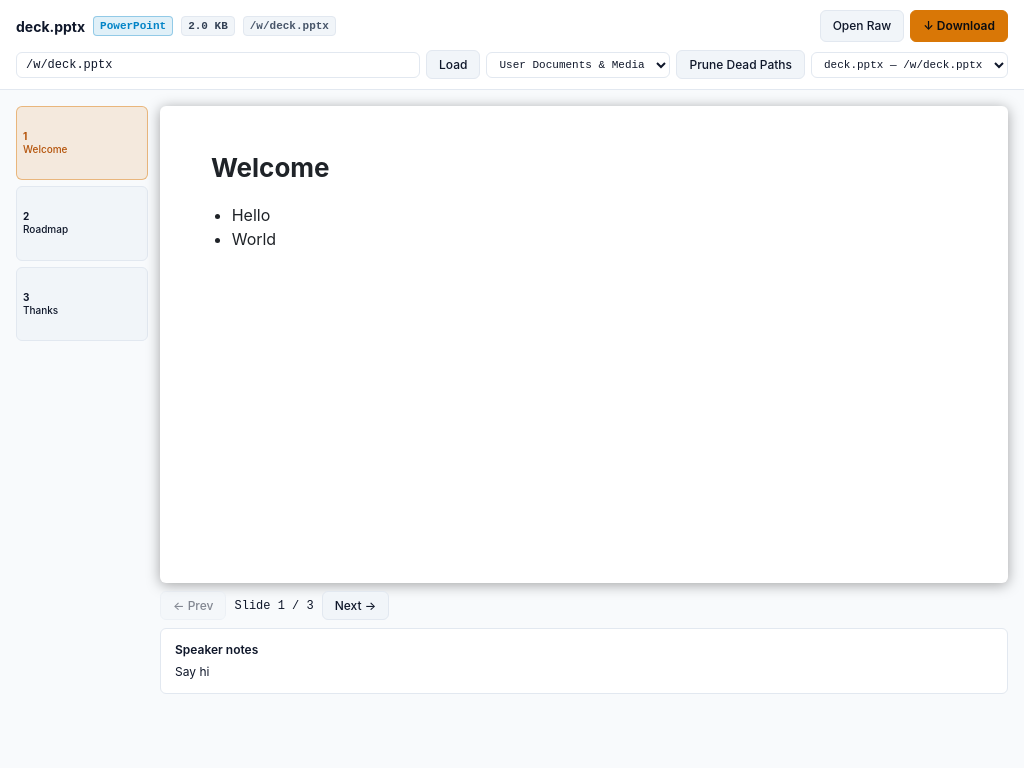
Test: Office document renderer › renders a .pptx as a slide deck with thumbnails, prev/next and speaker notes
The image size is (1024, 768).
Expected: the text with test id "artifact-kind-badge" reads "PowerPoint", x1=100 y1=20 x2=166 y2=32
Expected: the heading with test id "artifact-pptx-title" reads "Welcome", x1=211 y1=152 x2=330 y2=183
Click the button with test id "artifact-pptx-next" at (355, 606), box x1=322 y1=591 x2=389 y2=620
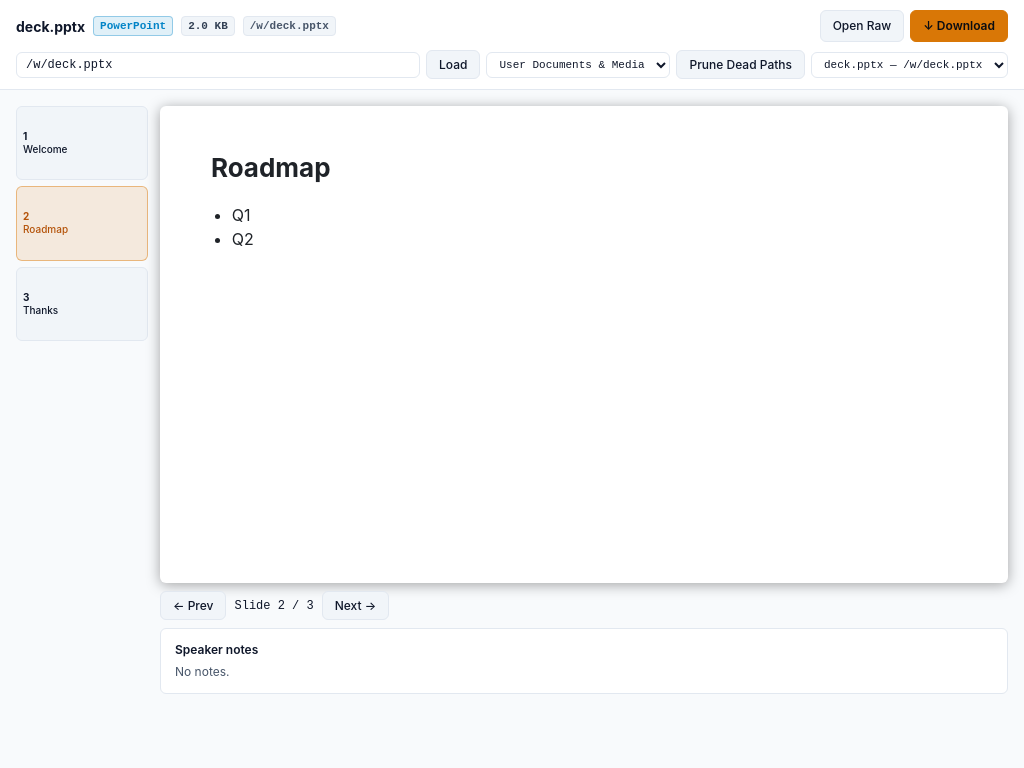
Expected: the heading with test id "artifact-pptx-title" reads "Roadmap", x1=211 y1=152 x2=331 y2=183
Expected: the element with test id "artifact-pptx-notes" shows "No notes.", x1=175 y1=664 x2=230 y2=679
Click the button with test id "artifact-pptx-thumb-2" at (82, 304), box x1=16 y1=266 x2=148 y2=341
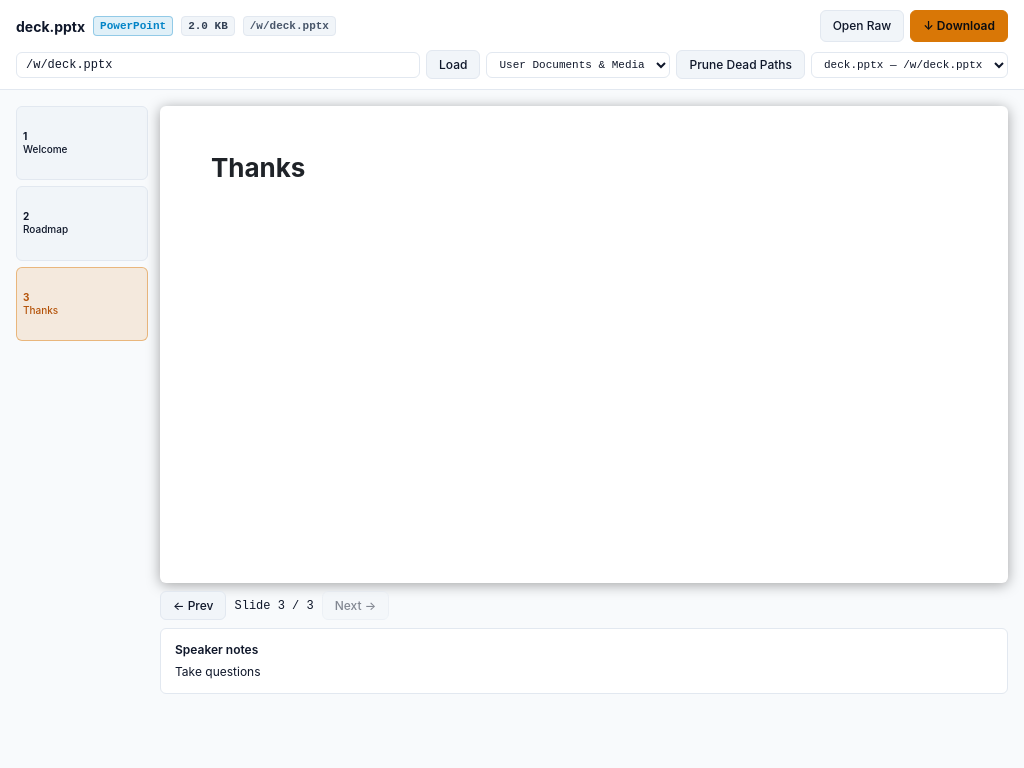
Expected: the text with test id "artifact-pptx-counter" reads "Slide 3 / 3", x1=234 y1=596 x2=314 y2=614
Expected: the element with test id "artifact-pptx-notes" shows "Take questions", x1=175 y1=664 x2=260 y2=679
Expected: the button with test id "artifact-pptx-next" is disabled, x1=322 y1=591 x2=389 y2=620
Click the button with test id "artifact-pptx-prev" at (193, 606), box x1=160 y1=591 x2=226 y2=620
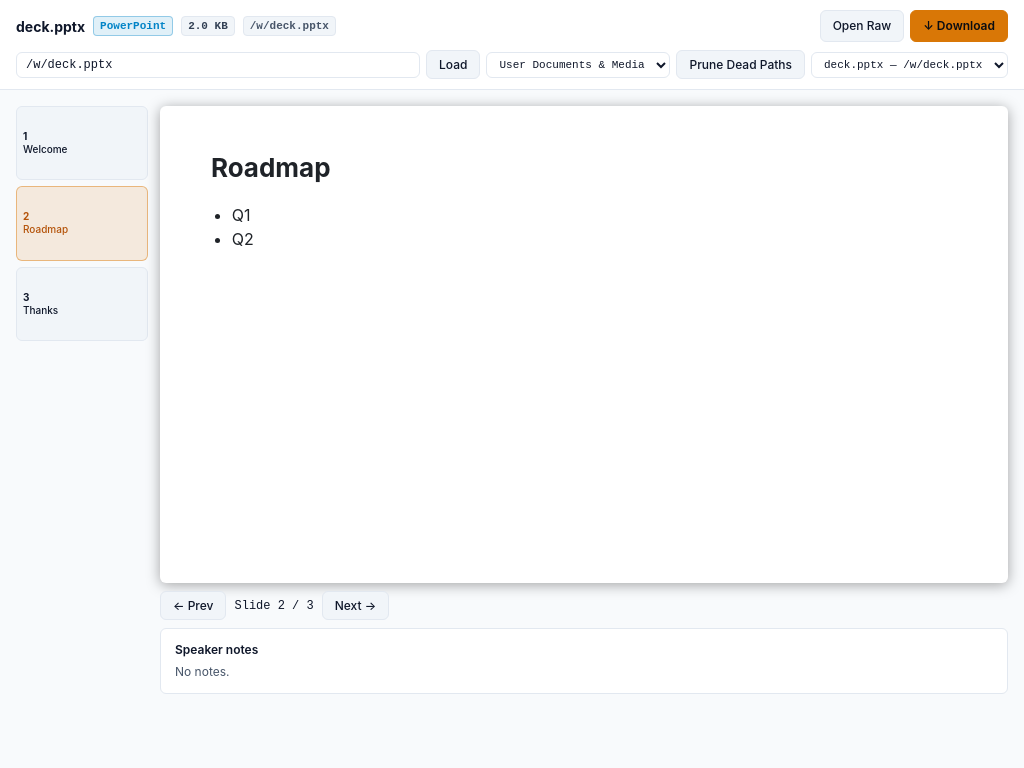
Expected: the text with test id "artifact-pptx-counter" reads "Slide 2 / 3", x1=234 y1=596 x2=314 y2=614
